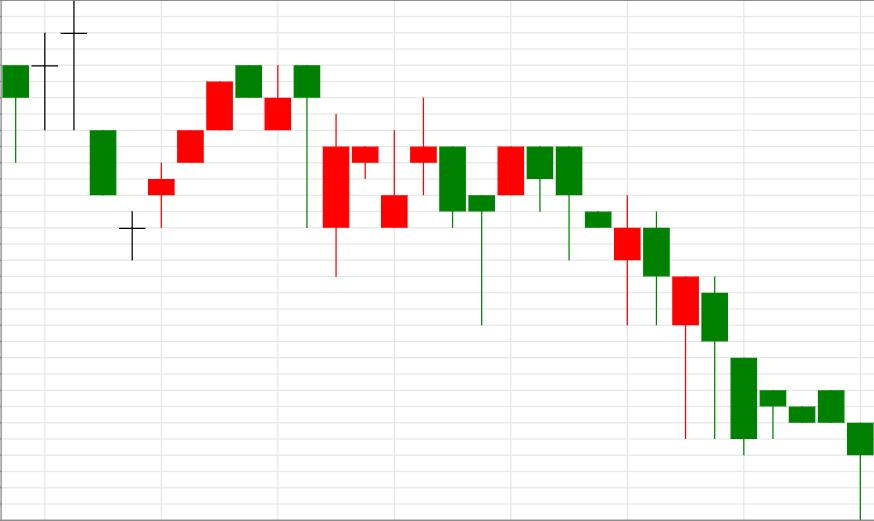hammer_rise: (643, 212, 873, 519)
